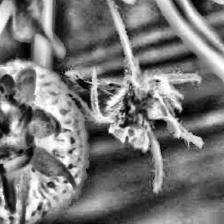Gray Mold: (66, 51, 204, 193)
